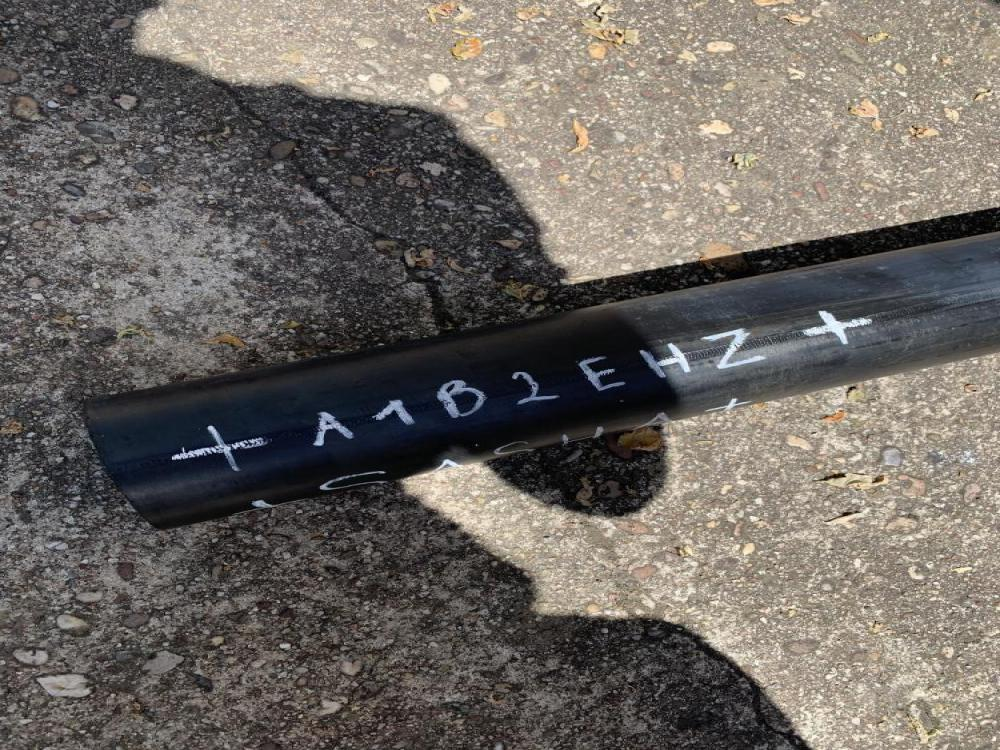+: (174, 425, 268, 471), (802, 310, 873, 346)
1: (375, 399, 415, 428)
2: (511, 370, 557, 406)
A: (311, 412, 357, 446)
B: (439, 379, 489, 419)
E: (580, 355, 628, 392)
H: (642, 344, 690, 380)
Z: (702, 328, 766, 368)
